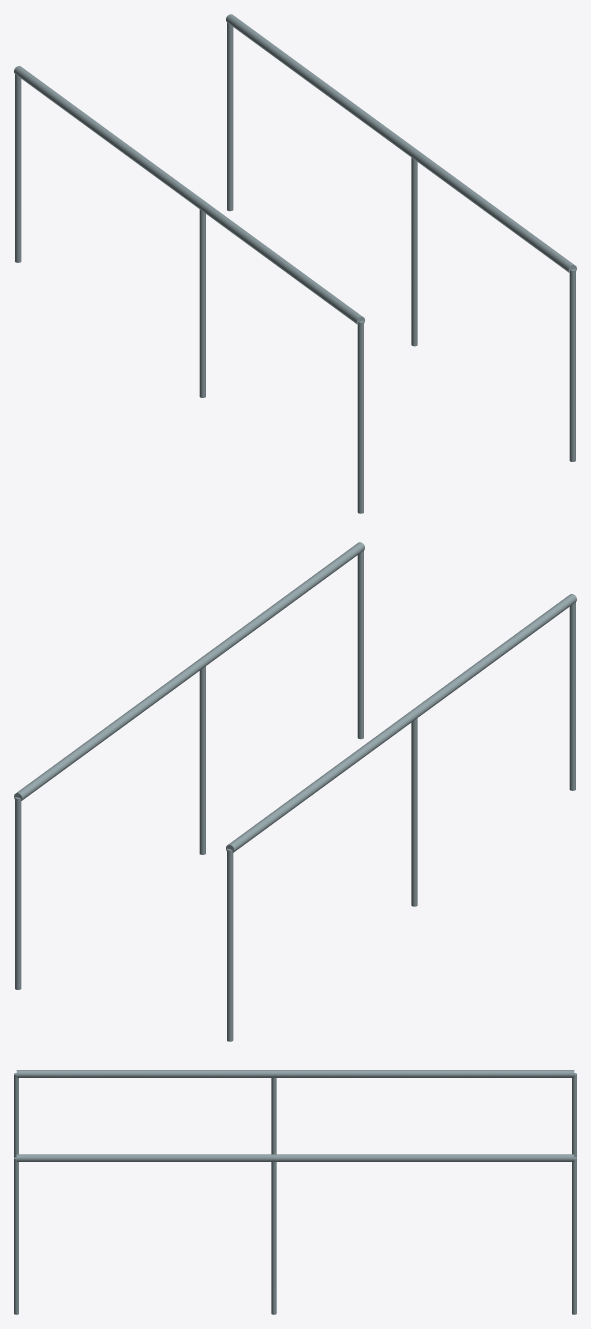
Rendered from stair-landing.glb.
3 views of the same model, one above another, from view 1: azimuth 30°, elevation 25°; view 2: azimuth 150°, elevation 25°; view 3: azimuth 270°, elevation 25° (orthographic). The views are drawn at different scales.
Visible parts, largest first — view 1: stair-landing; view 2: stair-landing; view 3: stair-landing.
Part boxes in pixels (left/top/right/bottom): stair-landing: left=14, top=14, right=576, bottom=513; stair-landing: left=14, top=542, right=576, bottom=1041; stair-landing: left=14, top=1070, right=576, bottom=1314.
Bounding box in the file's own units: 1.21 × 1.02 × 3.28.
Materials: 8 (8 with a texture image).
